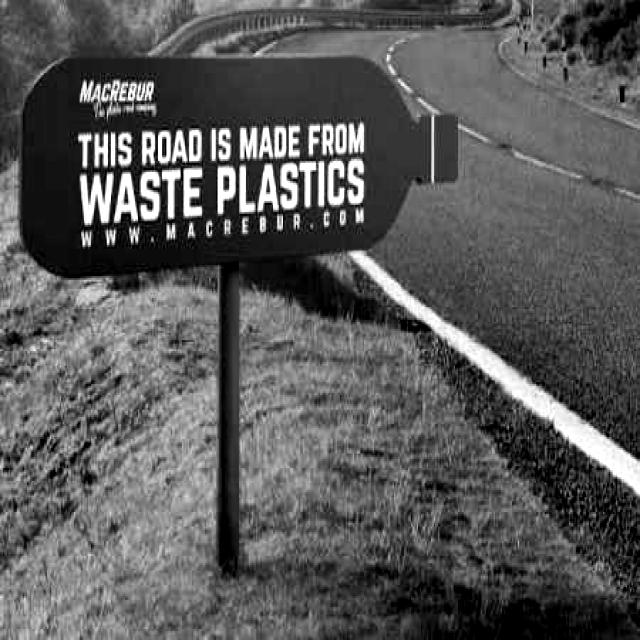cleat: (162, 11, 640, 566)
